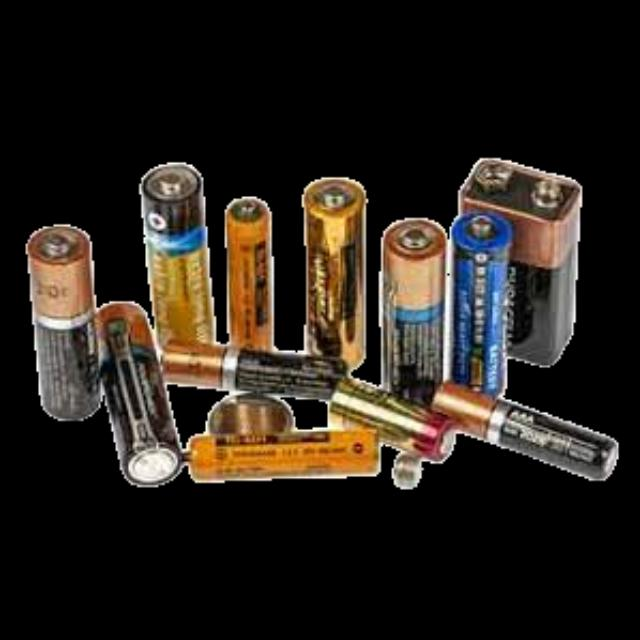Battery: (26, 223, 107, 423)
